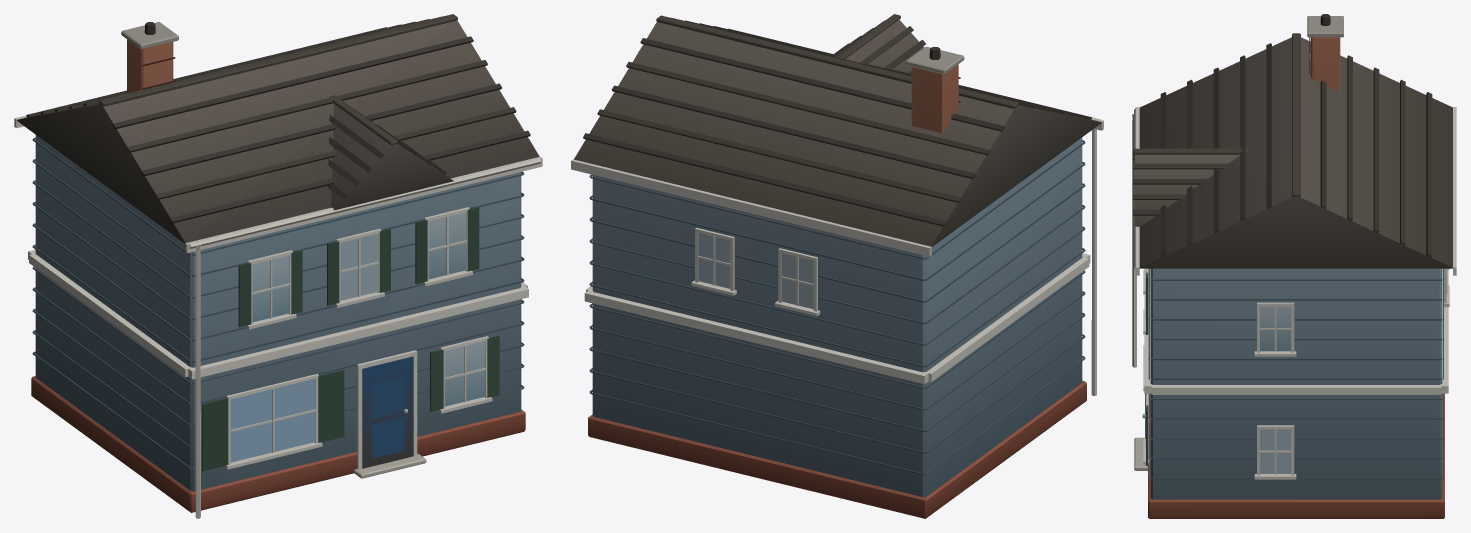
File: two-story-house.glb
3 renders of one model, left to right at view 1: azimuth 30°, elevation 25°; view 2: azimuth 150°, elevation 25°; view 3: azimuth 270°, elevation 25°, orthographic. The views are drawn at different scales.
Parts seen in each view (by area): view 1: two_story_house; view 2: two_story_house; view 3: two_story_house.
Part boxes in pixels (x1,y1,x2,y2): two_story_house: (14,14,542,518); two_story_house: (571,14,1103,518); two_story_house: (1132,14,1456,518).
Size of the model in its own units: 7.36 by 7.99 by 6.23.
